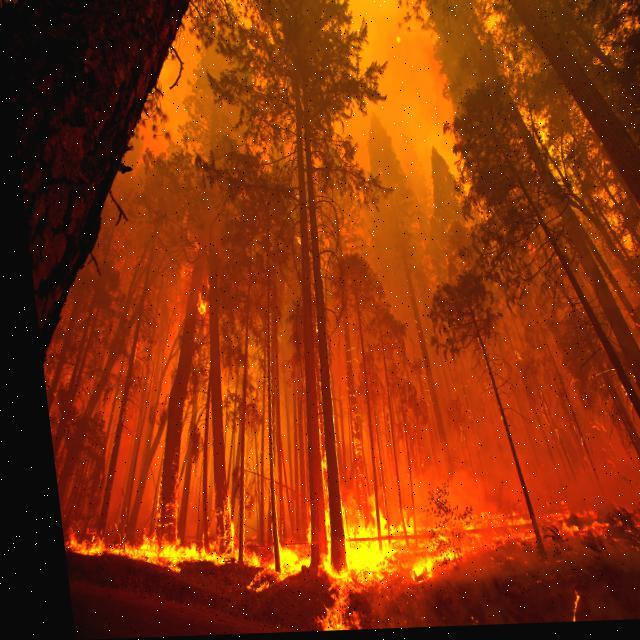Fire: (51, 453, 639, 635)
